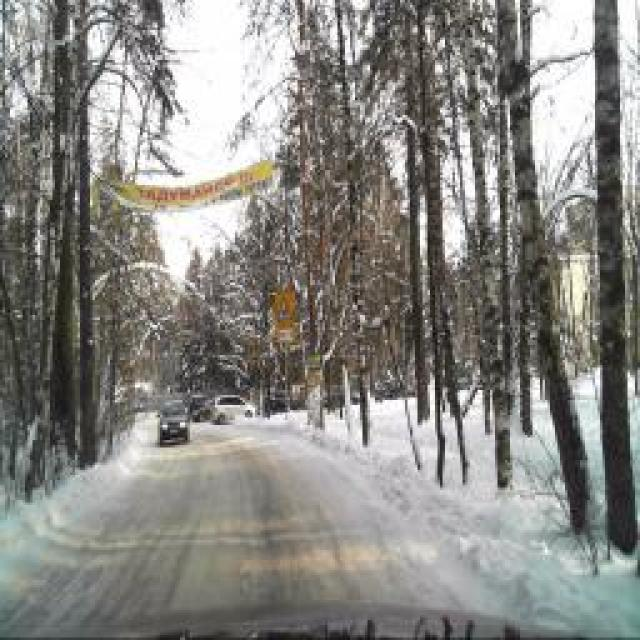sign: (274, 292, 294, 326)
